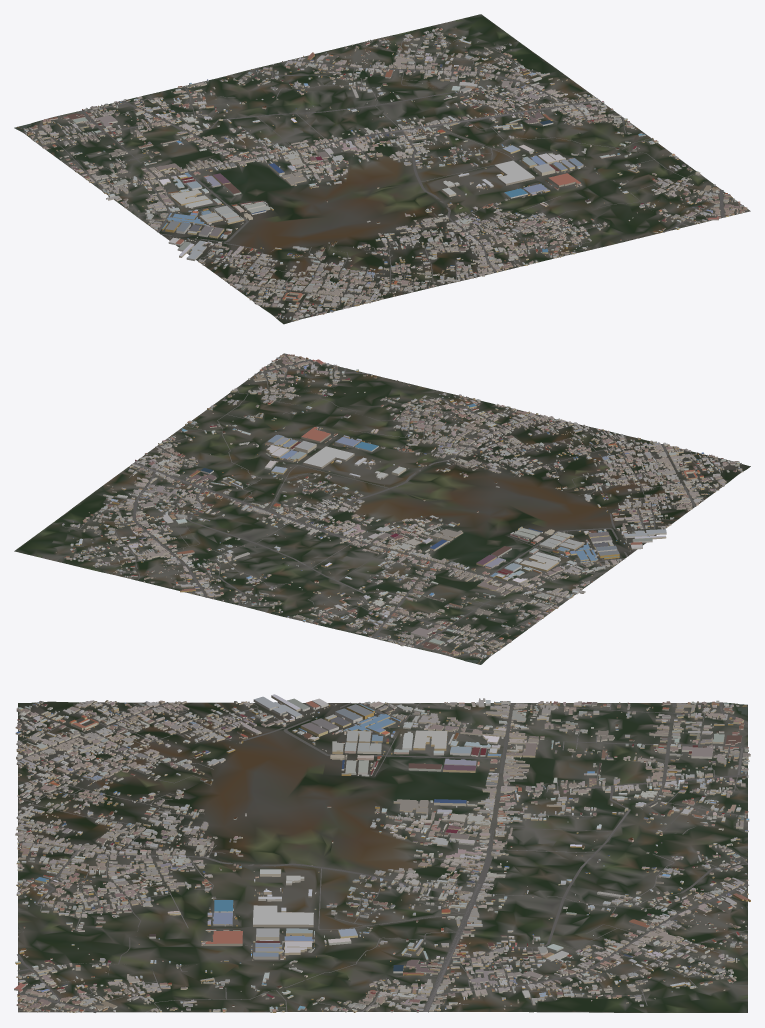
3 renders of one model, top to bottom at view 1: azimuth 30°, elevation 25°; view 2: azimuth 150°, elevation 25°; view 3: azimuth 270°, elevation 25°, orthographic. The views are drawn at different scales.
Parts seen in each view (by area): view 1: ground, buildings, roads; view 2: ground, buildings, roads; view 3: ground, buildings, roads.
Boxes of the visible parts, left/top/right/bottom form: ground: left=14, top=14, right=750, bottom=324; buildings: left=17, top=27, right=747, bottom=321; roads: left=23, top=31, right=749, bottom=321; ground: left=14, top=353, right=750, bottom=664; buildings: left=55, top=354, right=743, bottom=663; roads: left=62, top=353, right=743, bottom=656; ground: left=18, top=701, right=747, bottom=1012; buildings: left=14, top=694, right=750, bottom=1012; roads: left=17, top=702, right=748, bottom=1012.
Size of the model in its own units: 2866 by 25.37 by 2828.
